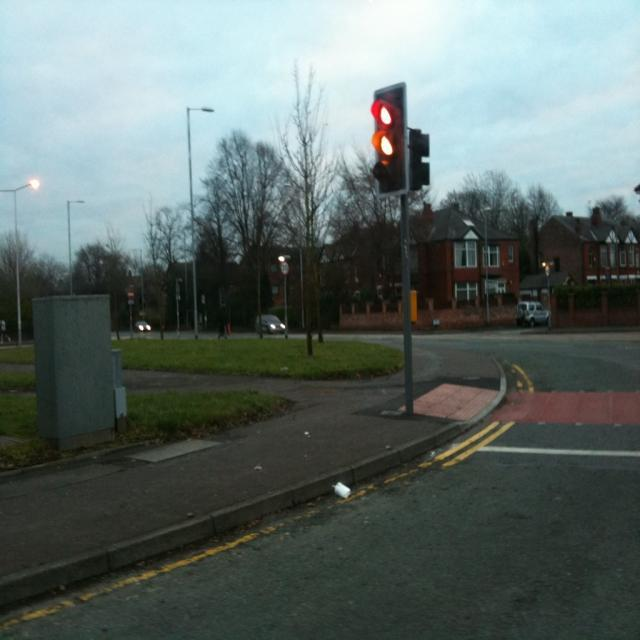traffic light: (369, 83, 409, 191)
